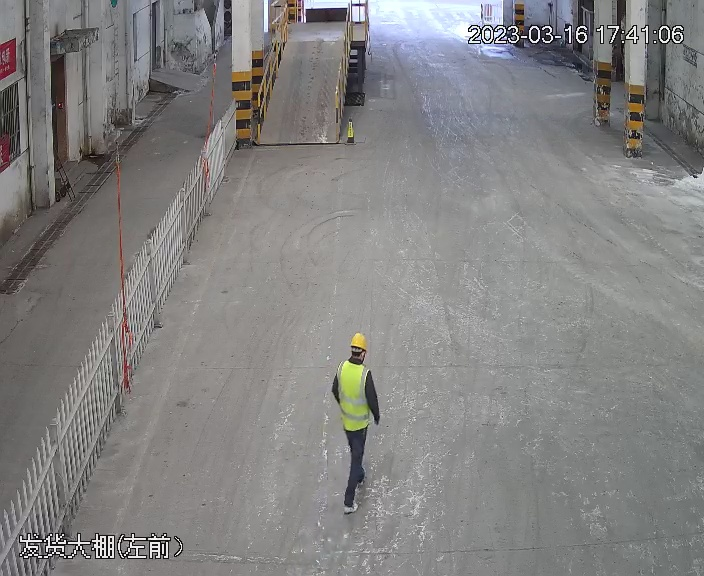head: (334, 332, 375, 384)
helmet: (349, 332, 369, 349)
people: (329, 330, 383, 514)
